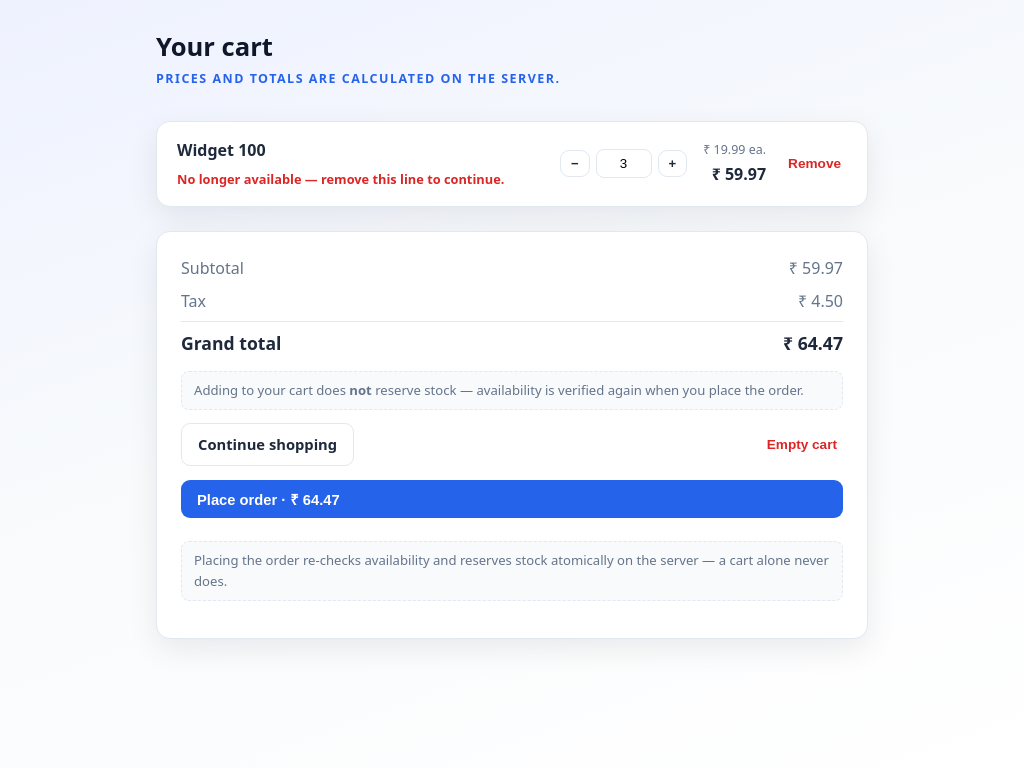
Checkout (cart → place order) › posts an empty body with an Idempotency-Key and routes to confirmation
Expected: the text "Widget 100" is shown, [177,139,266,161]
Click the button "Place order · ₹ 64.47".
click(268, 500)  # box [181,480,843,518]
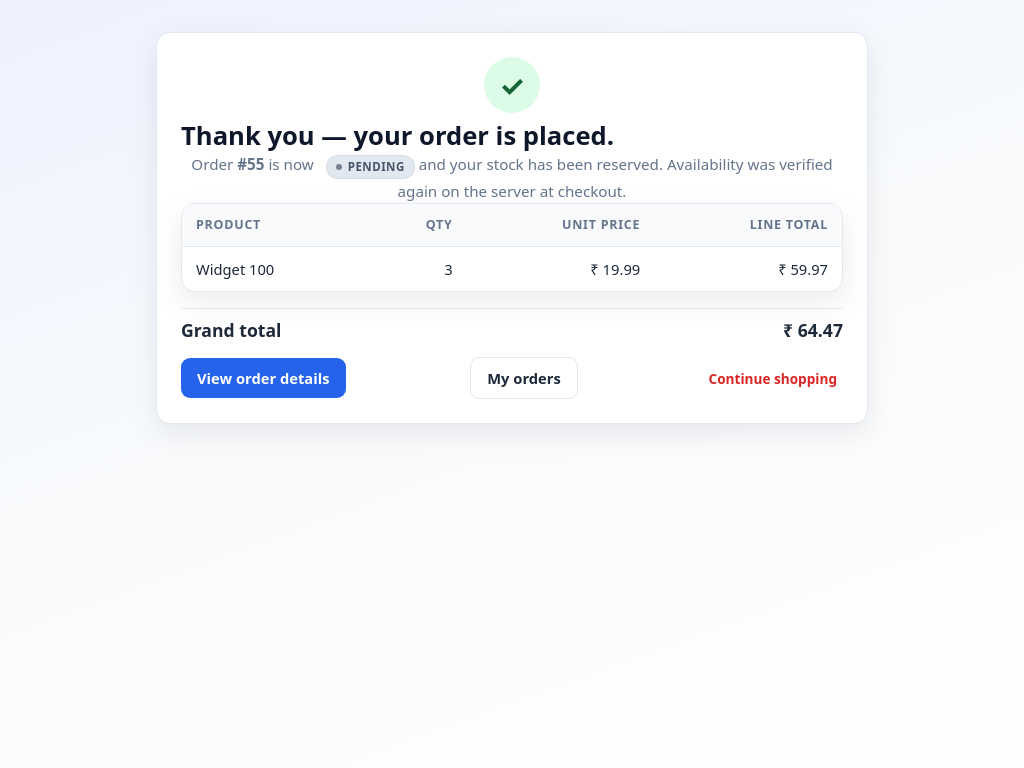
Expected: the heading "Thank you — your order is placed." is shown, [181,118,614,153]
